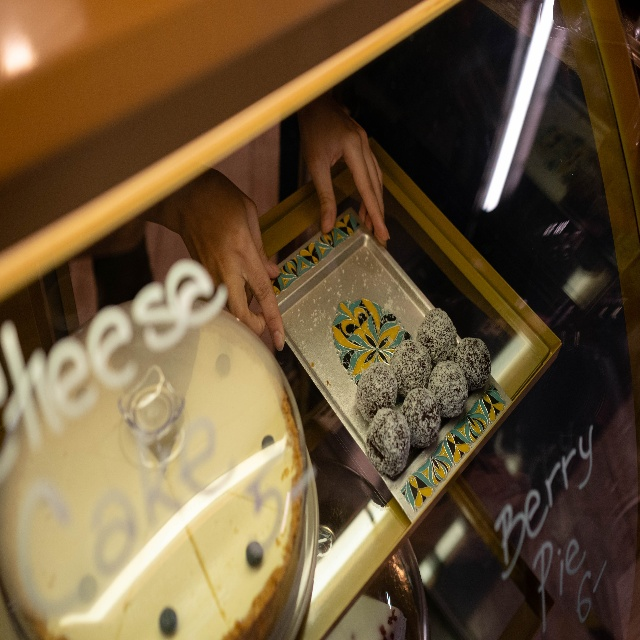Sin_guantes: (180, 177, 286, 353), (297, 101, 390, 251)
